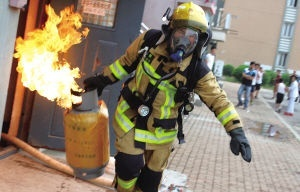fire: (13, 3, 88, 109)
